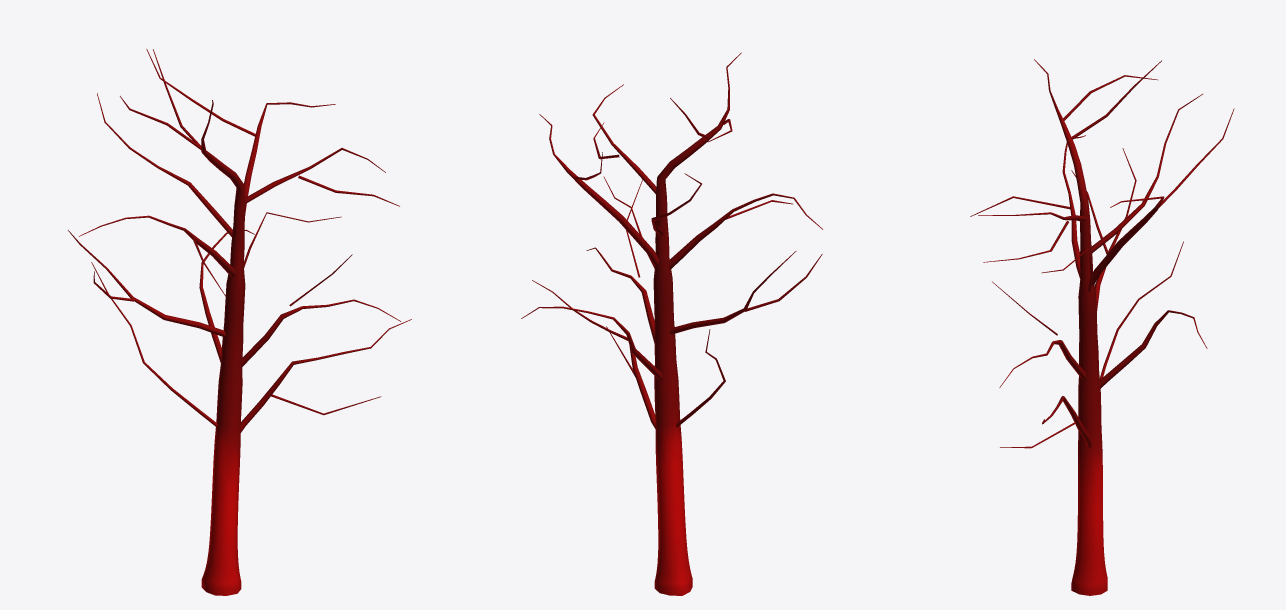
Rendered from oak_b_lod1.glb.
3 views of the same model, side by side, from view 1: azimuth 30°, elevation 25°; view 2: azimuth 150°, elevation 25°; view 3: azimuth 270°, elevation 25° (orthographic). The views are drawn at different scales.
Parts seen in each view (by area): view 1: oak_b_LOD1; view 2: oak_b_LOD1; view 3: oak_b_LOD1.
Boxes of the visible parts, left/top/right/bottom form: oak_b_LOD1: left=68, top=49, right=411, bottom=595; oak_b_LOD1: left=521, top=52, right=822, bottom=595; oak_b_LOD1: left=970, top=59, right=1234, bottom=595.
Bounding box in the file's own units: 12.47 × 18.52 × 11.58.
